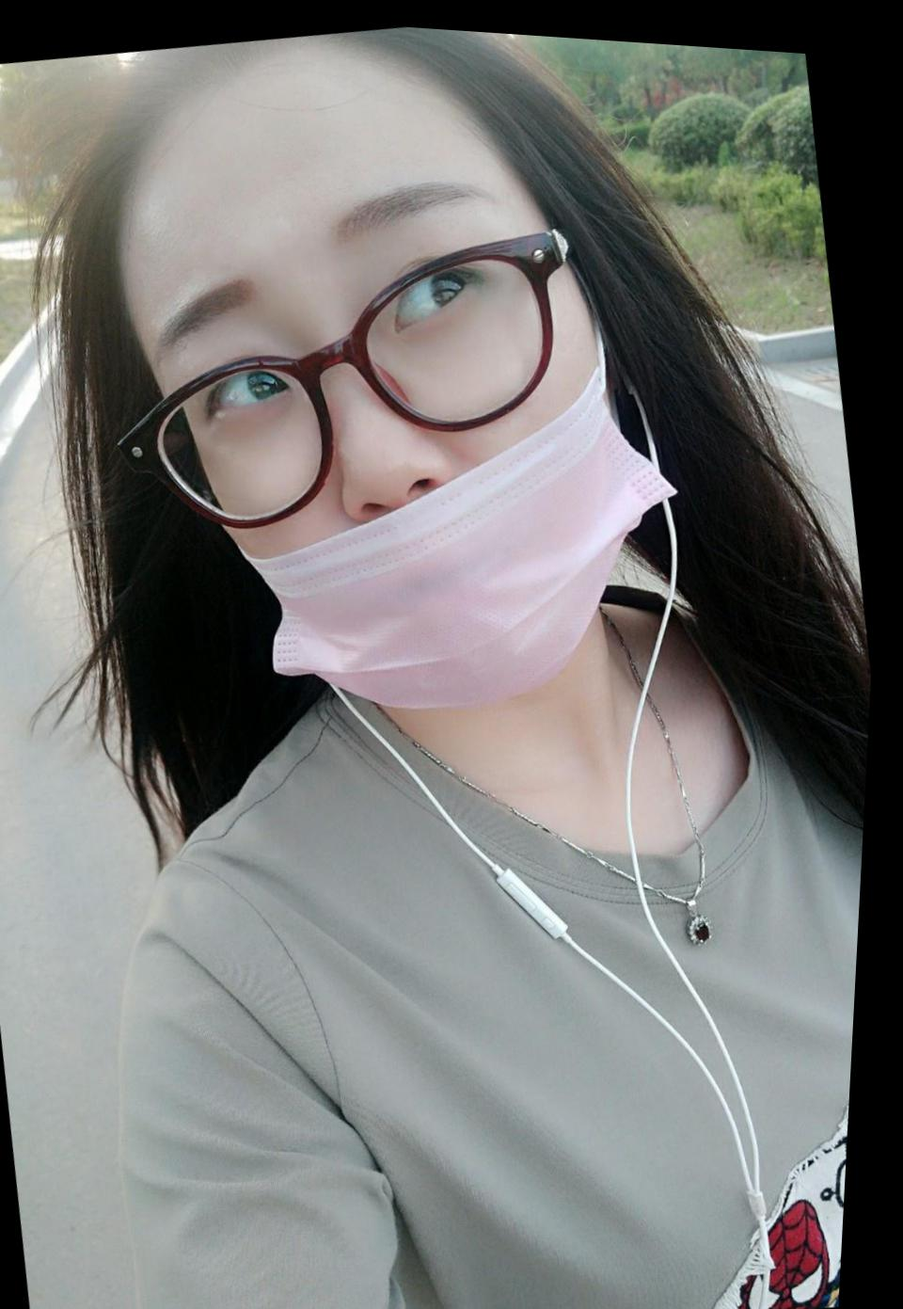WRONG: (97, 104, 689, 761)
